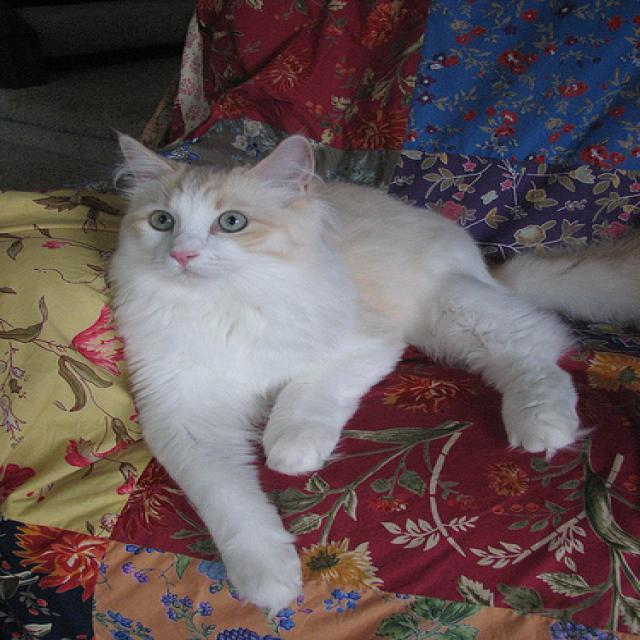Ragdoll: (100, 123, 336, 306)
